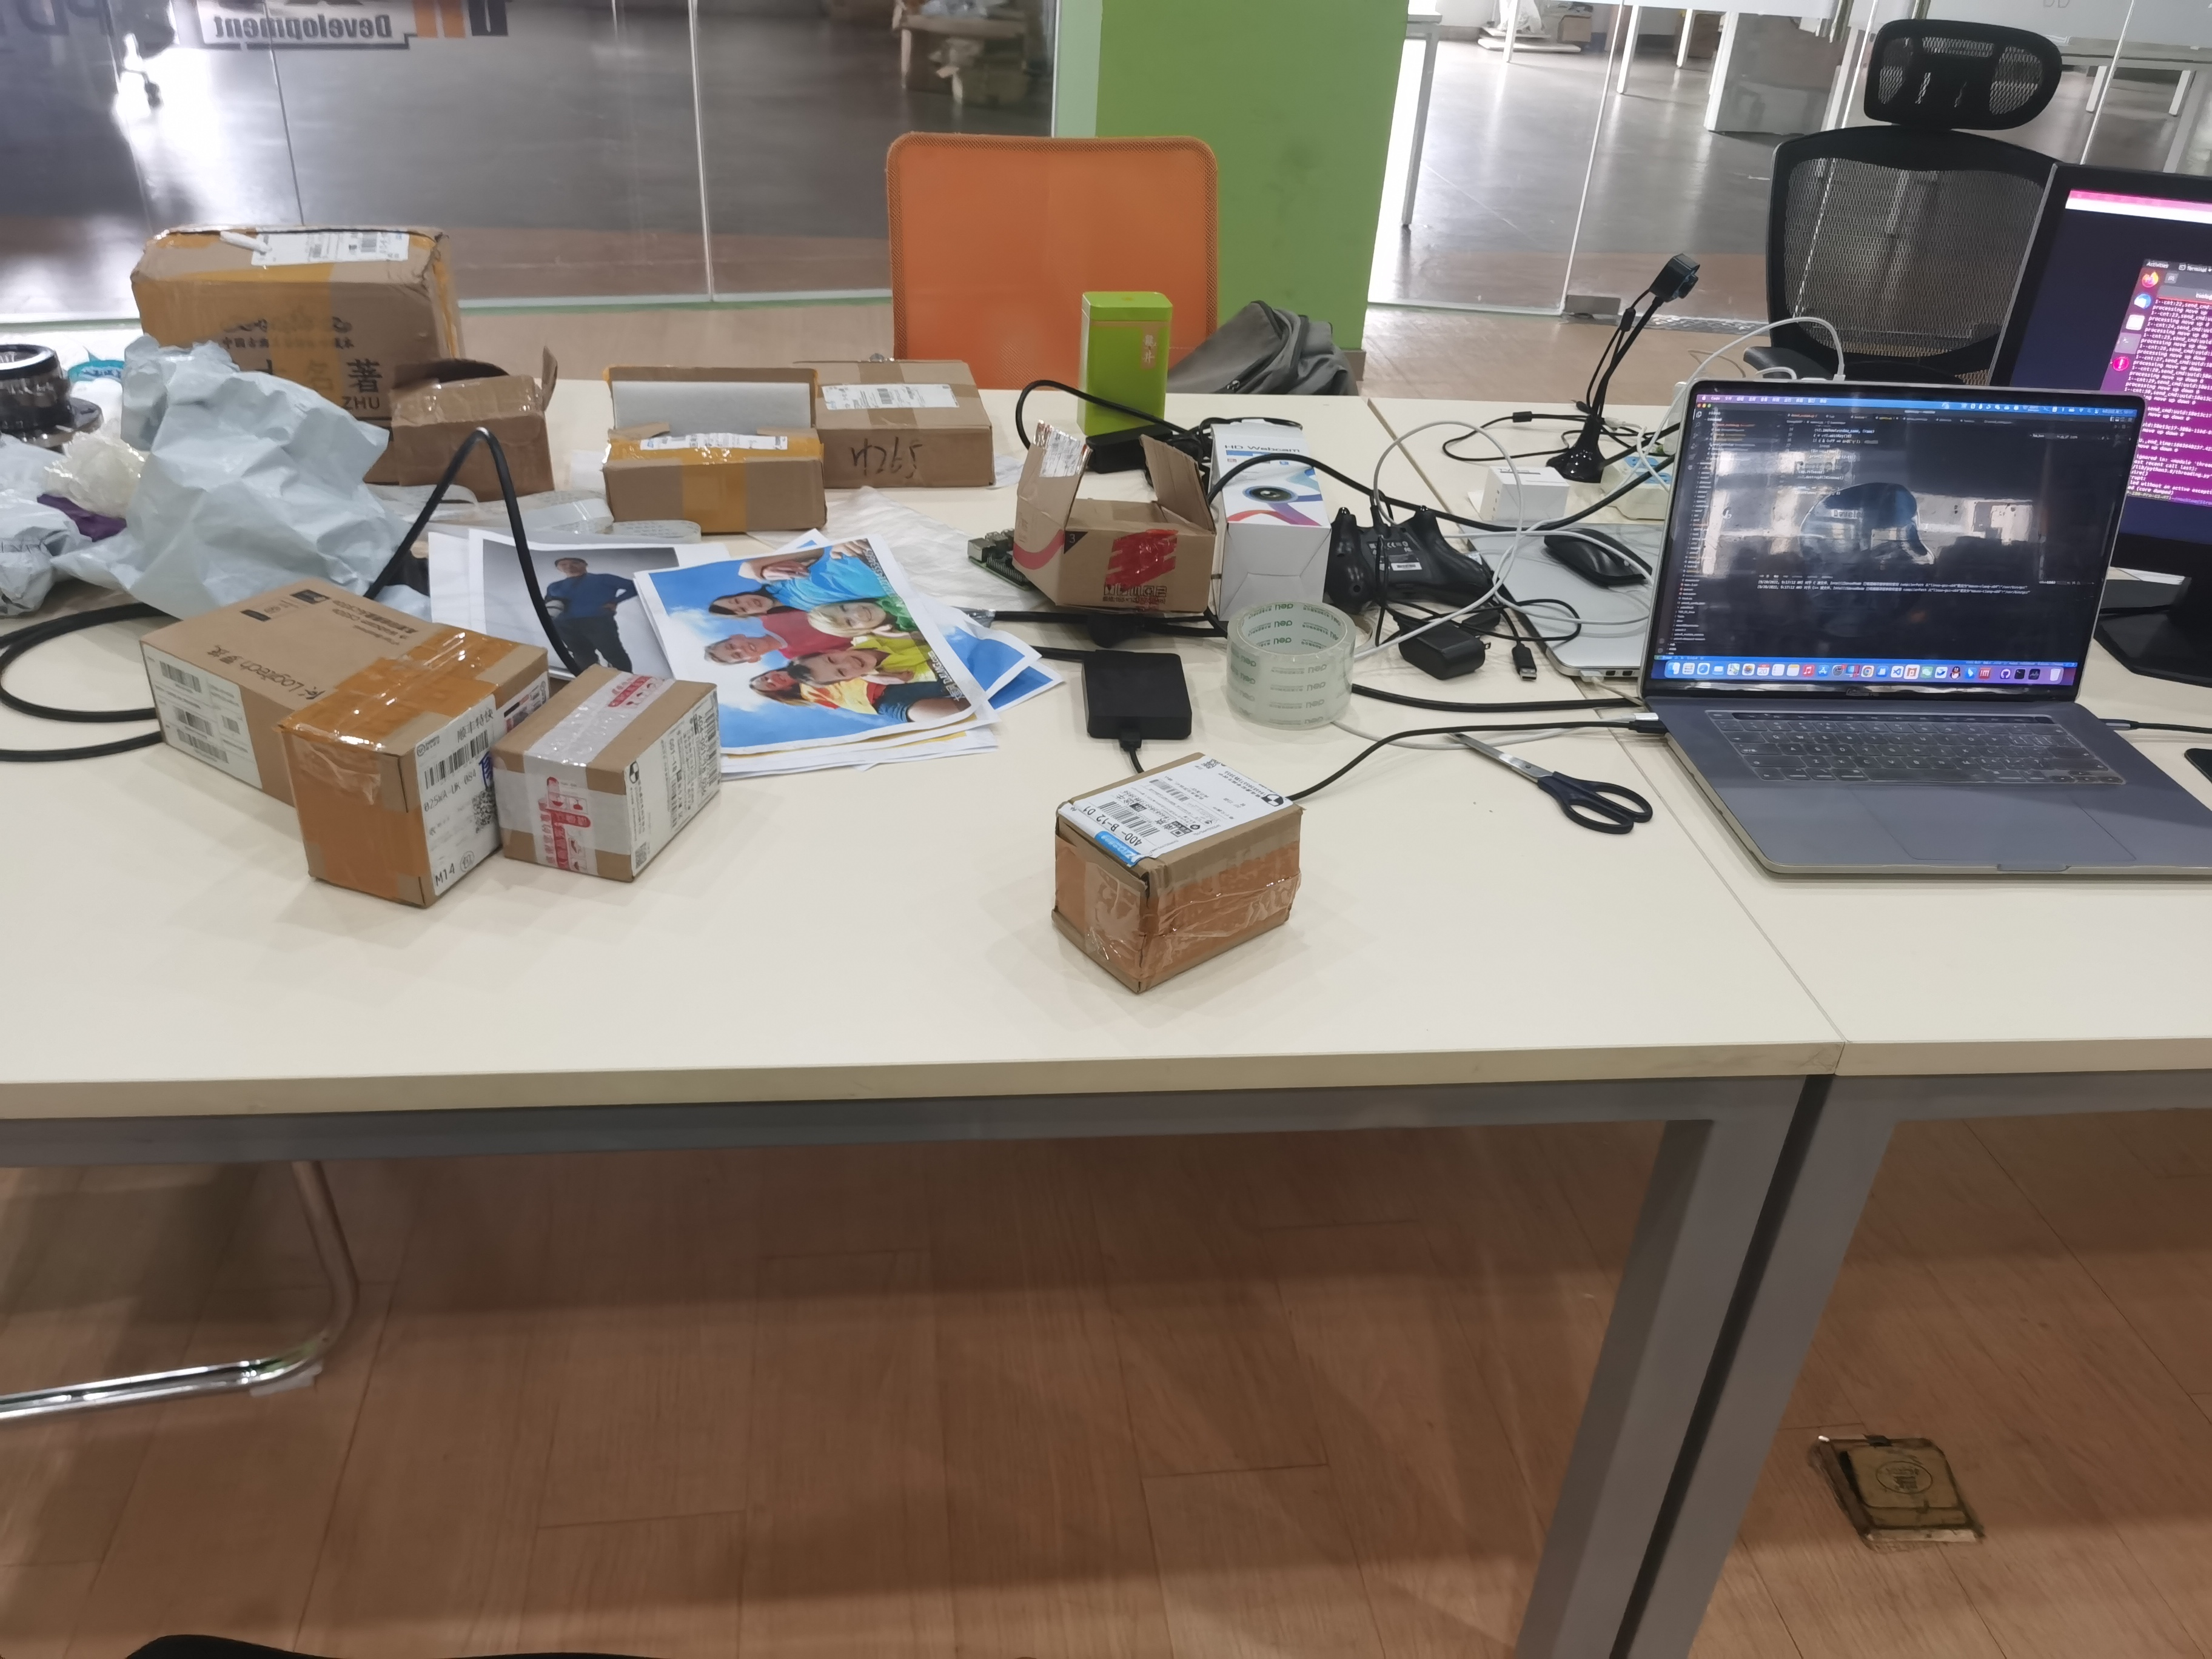box: (136, 579, 489, 840), (280, 626, 575, 910), (136, 216, 475, 416), (1043, 749, 1305, 988), (493, 660, 733, 896), (597, 362, 836, 545), (1003, 425, 1219, 617), (369, 382, 563, 502)
